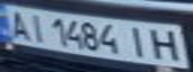1: (45, 15, 66, 46)
4: (96, 21, 124, 56), (63, 17, 81, 50)
8: (78, 19, 100, 52)
A: (3, 7, 33, 40)
H: (145, 26, 187, 62)
I: (124, 24, 154, 58), (21, 11, 51, 43)
